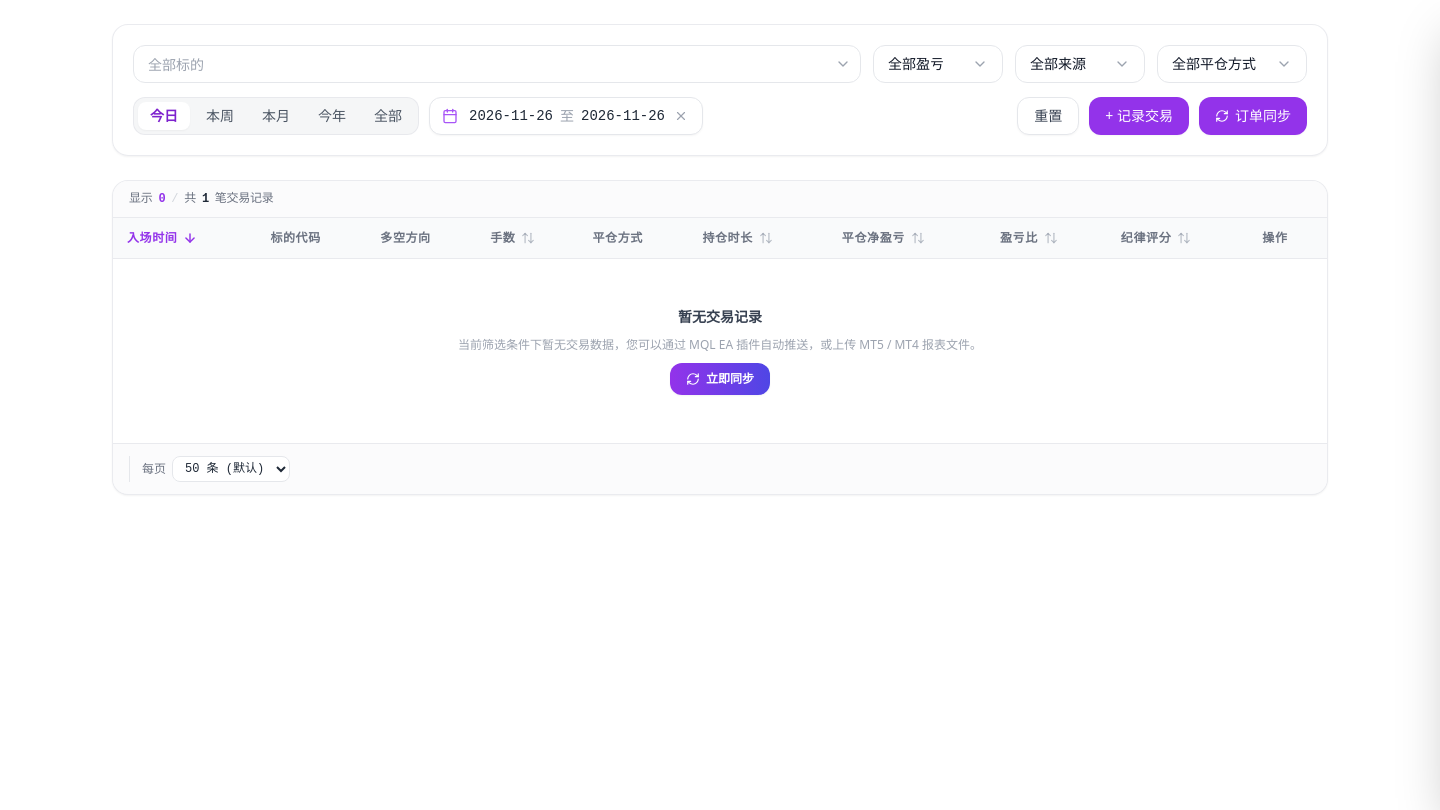
it: TradesPage › opens rating modal when clicking row discipline rating stars and updates trade rating
What coordinates should you click on to do the following:
click the button "全部"
I would click on:
 (388, 116)
Its box is [362, 102, 414, 130].
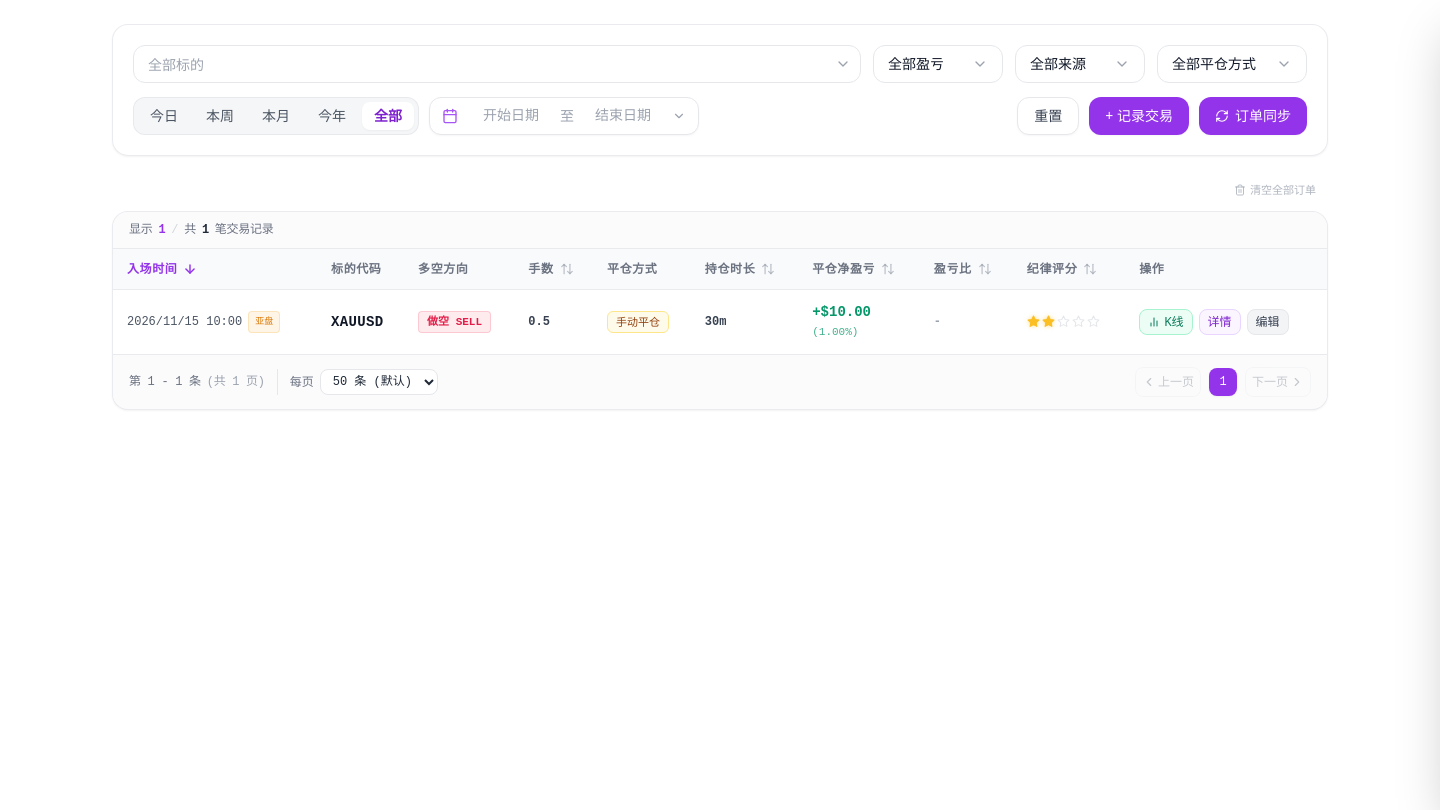
Expected: the text "XAUUSD" is shown, [319, 289, 406, 354]
Expected: the button titled "点击设置交易纪律评分" is shown
What coordinates should you click on to do the following:
click the button titled "点击设置交易纪律评分"
I would click on:
 (1063, 322)
Its box is [1023, 311, 1104, 332].
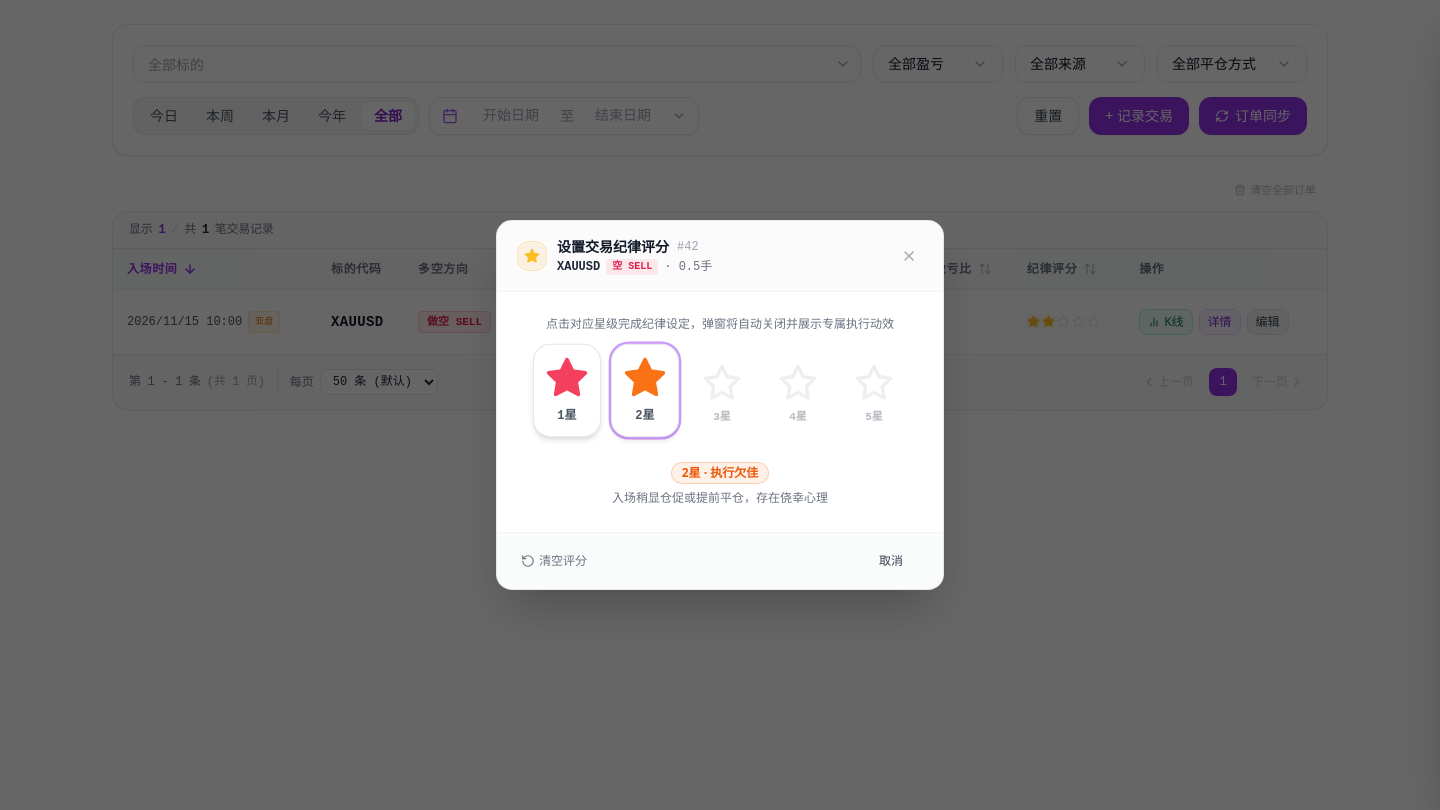
Expected: the text "设置交易纪律评分" is shown, [557, 237, 669, 257]
Expected: the text "#42" is shown, [677, 239, 699, 255]
Note: Click 5-star rating: Modal immediately closes, and animation overlay appears!
What coordinates should you click on to do the following:
click the button titled "评定为 5 星"
I would click on:
 (874, 394)
Its box is [844, 353, 904, 435].
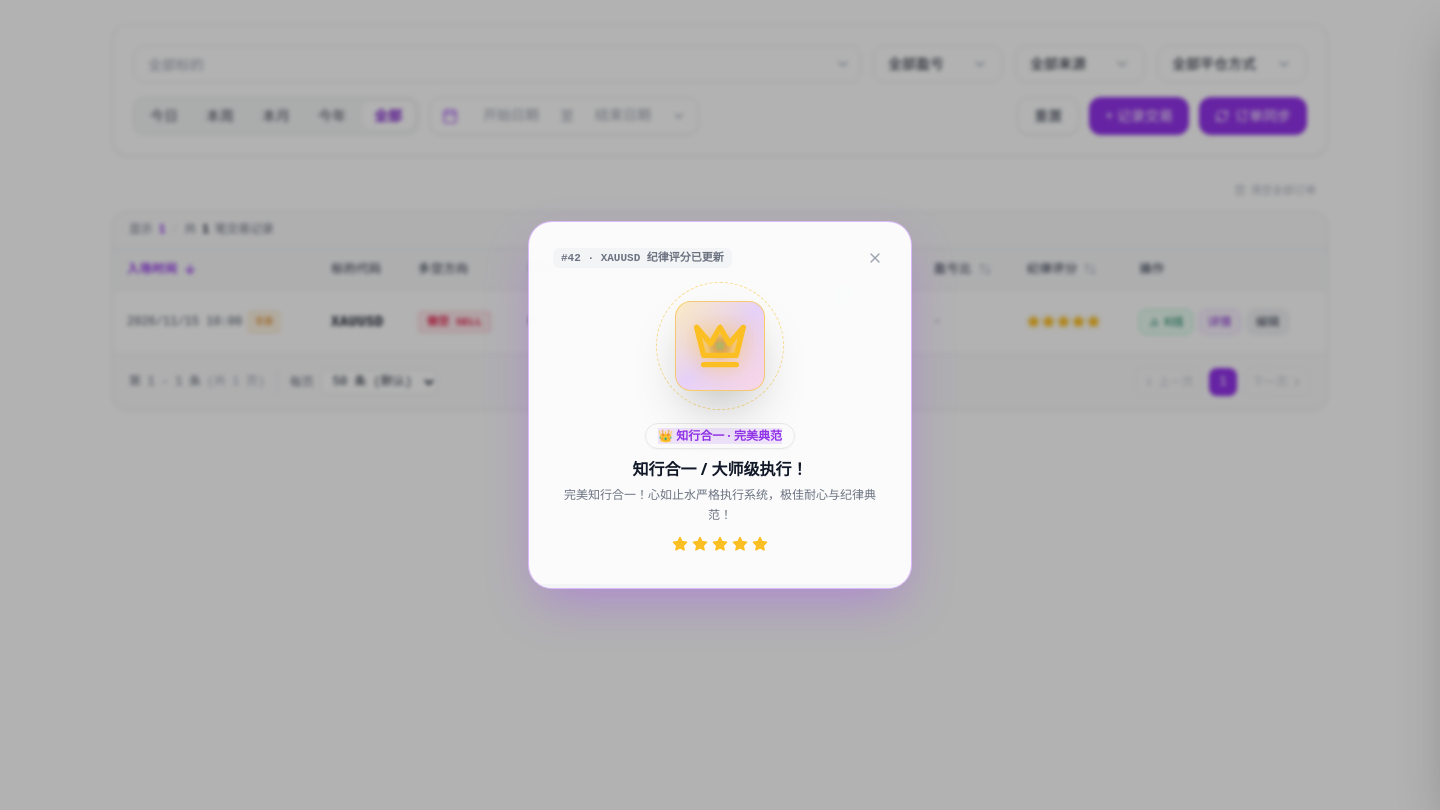
Expected: the text "设置交易纪律评分" is gone
Expected: the heading "知行合一 / 大师级执行！" is shown, [632, 458, 807, 480]
Expected: the text "👑 知行合一 · 完美典范" is shown, [658, 428, 782, 444]
